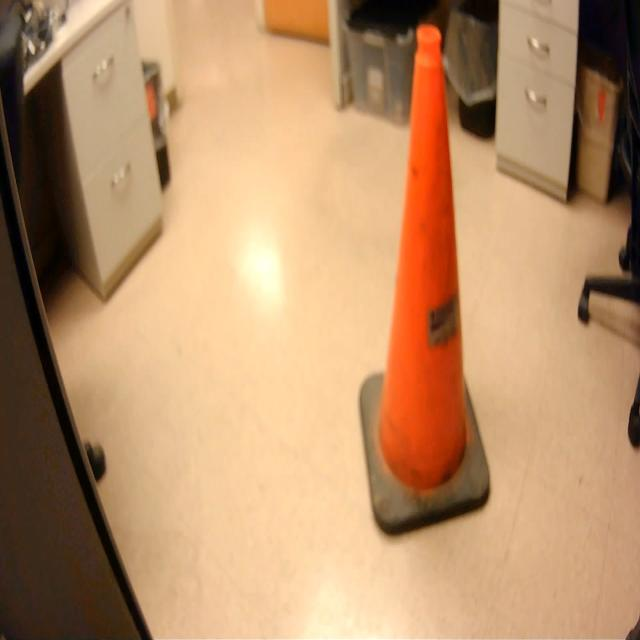traffic cone: (355, 20, 497, 544)
